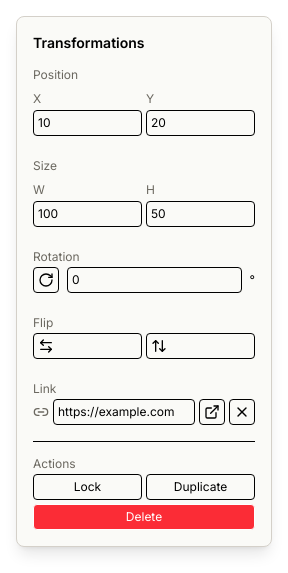
Test: TransformationPanel link editor › removes the link and drops the draft in one action
Replace the text in the field with "https://typed.com" at coordinates (124, 412), box x1=53 y1=399 x2=195 y2=425
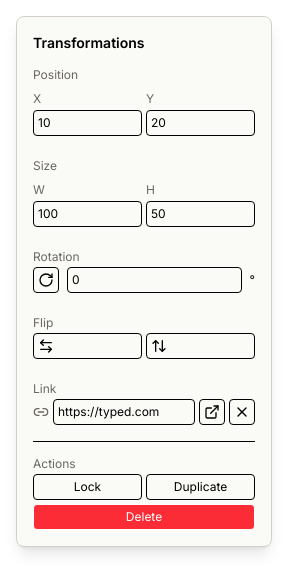
Click the button named "Remove link" at coordinates (242, 412), box x1=229 y1=399 x2=255 y2=425
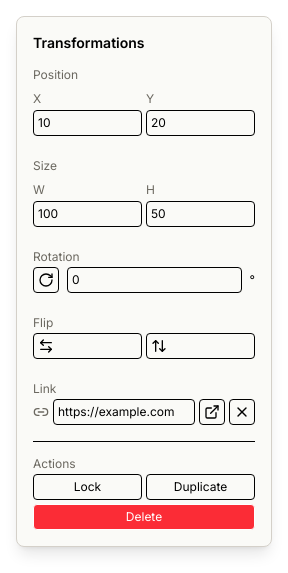
Result: the field holds "https://example.com" at x1=53 y1=399 x2=195 y2=425
